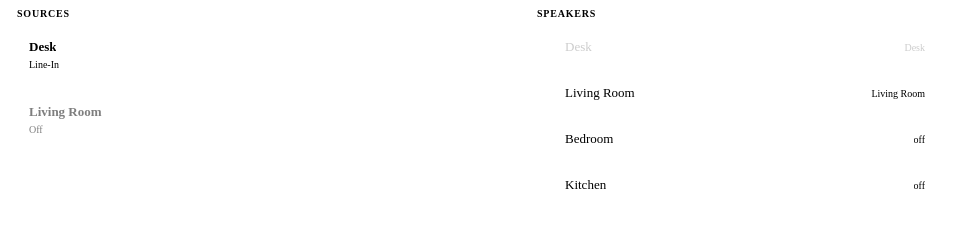
it: GroupsModal , join/leave mutation error reverts optimistic state › reverts the optimistic LED when sonosGroupJoin itself fails
Click the button with aria-label "Bedroom, off" at {"x": 589, "y": 138}, box [537, 121, 937, 157]
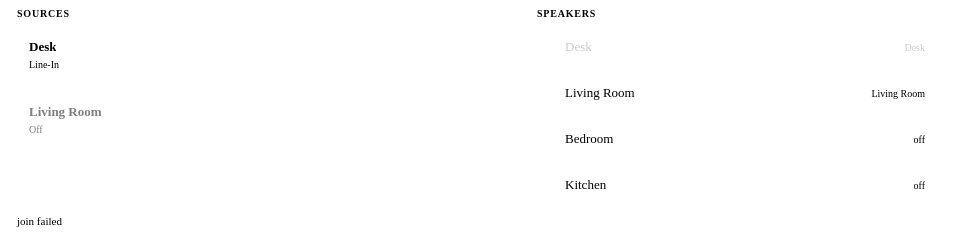
Check: the text "join failed" is shown, box [17, 215, 62, 227]
